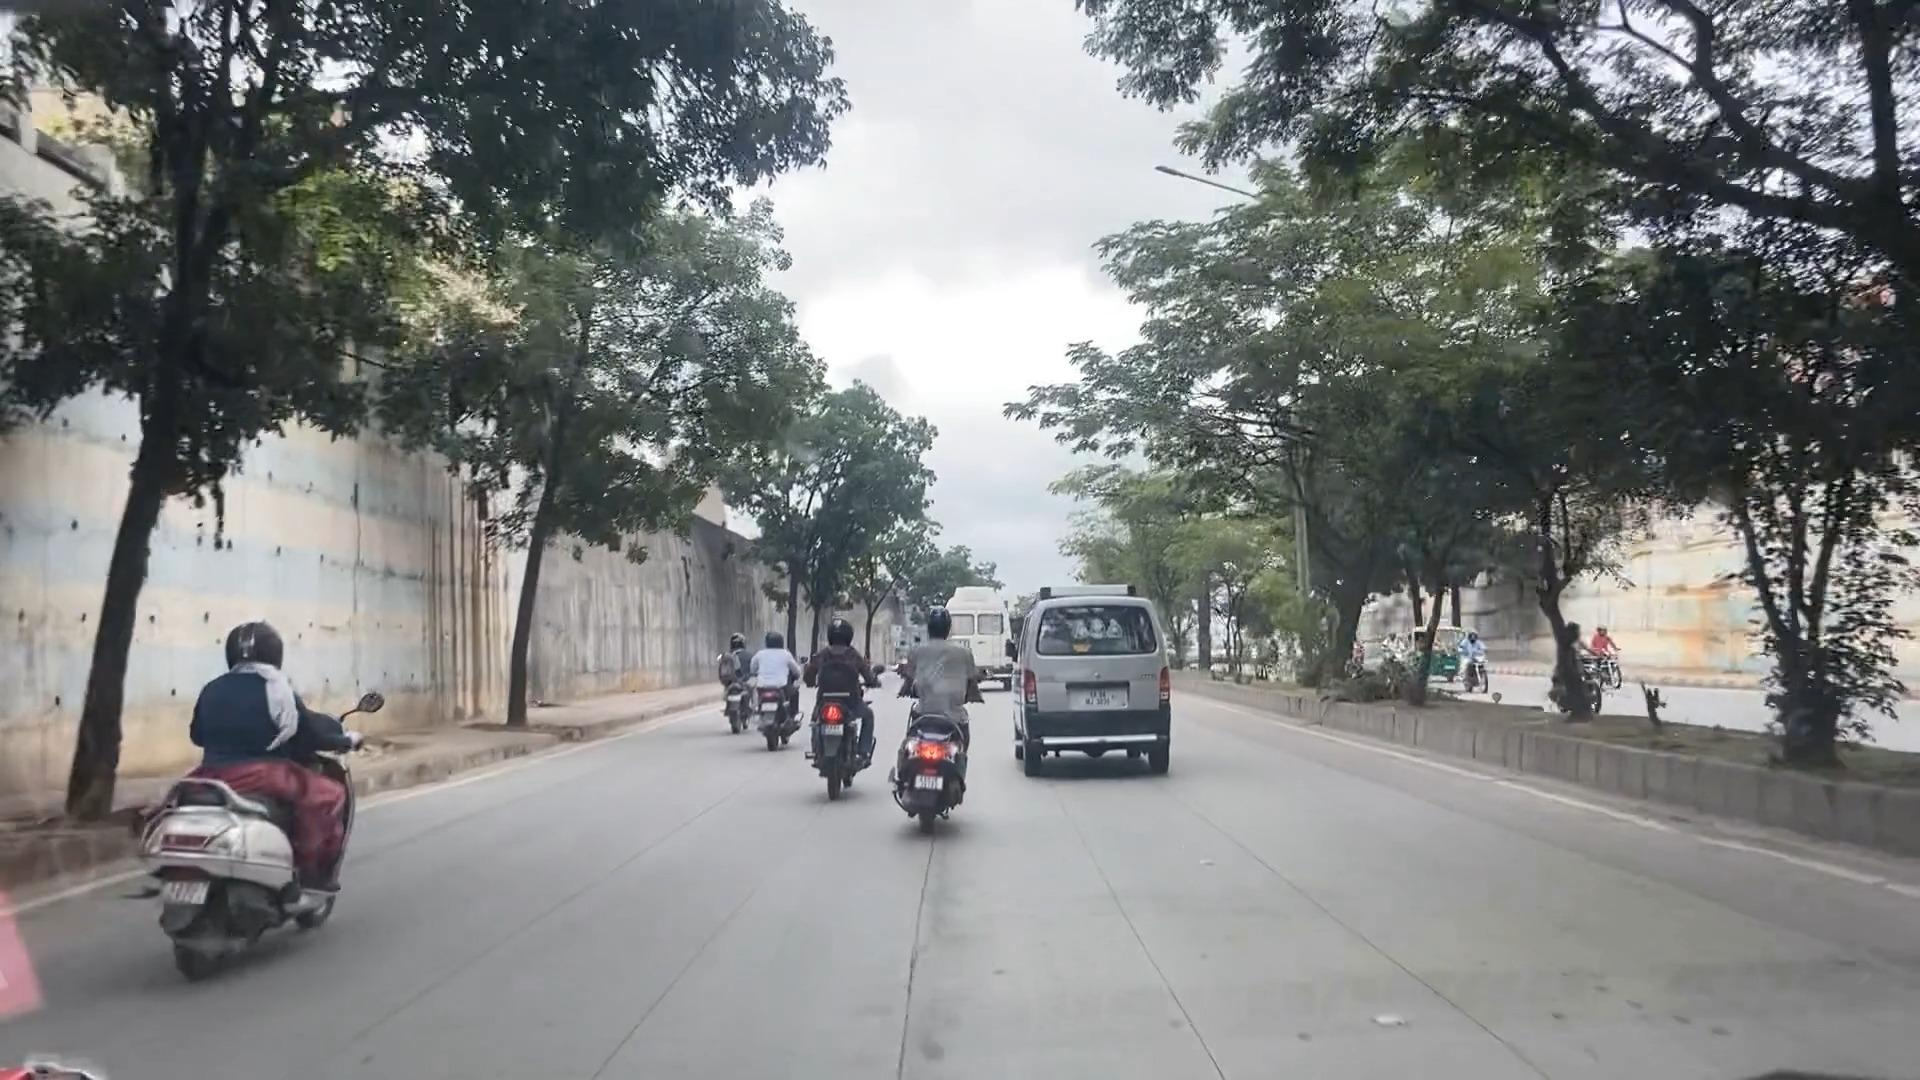LMV: (133, 597, 357, 951), (996, 568, 1211, 790), (886, 588, 973, 824), (783, 603, 865, 786)
